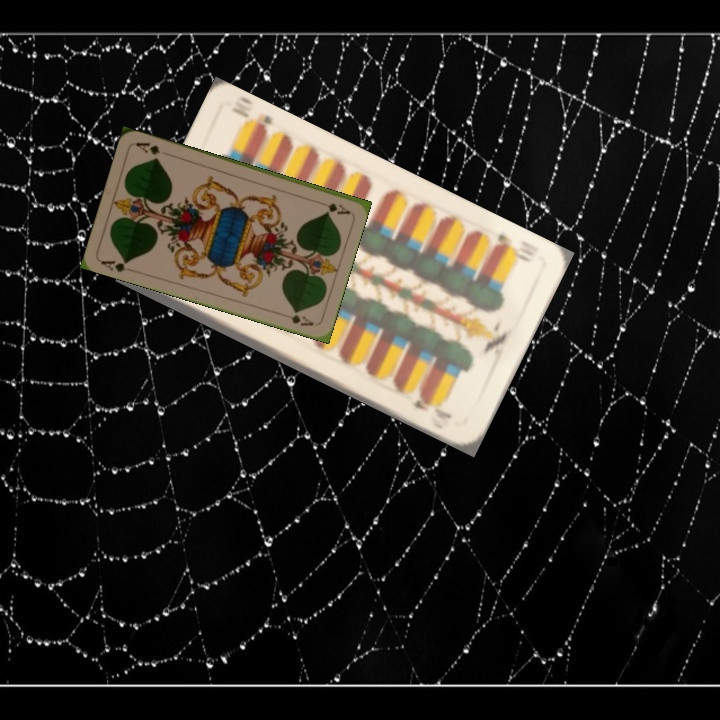E10: (489, 229, 533, 263)
GA: (96, 255, 137, 275), (312, 197, 352, 217)
